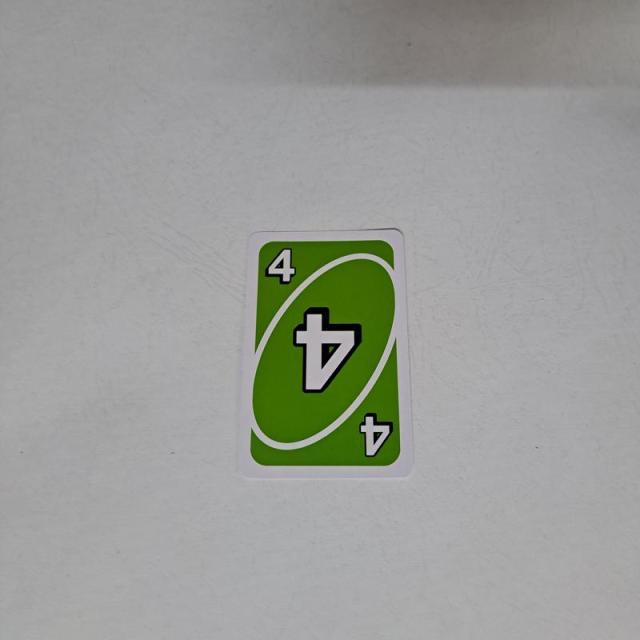Green_Card: (246, 235, 406, 473)
Number_4: (264, 240, 300, 290)
